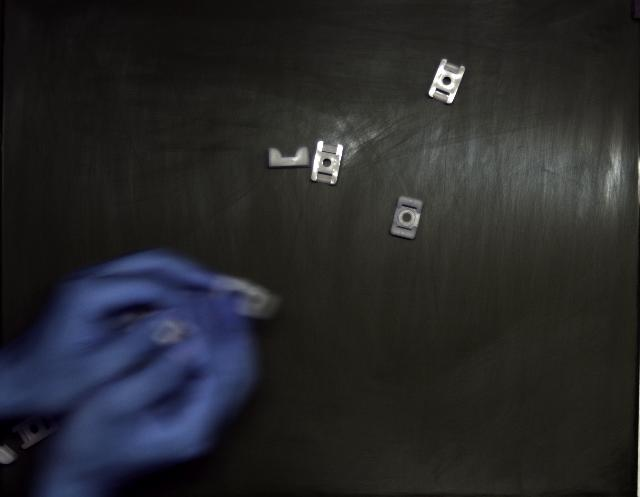first_side: (390, 196, 422, 239)
second_side: (429, 59, 465, 104), (311, 141, 342, 185)
third_side: (269, 146, 310, 168)
